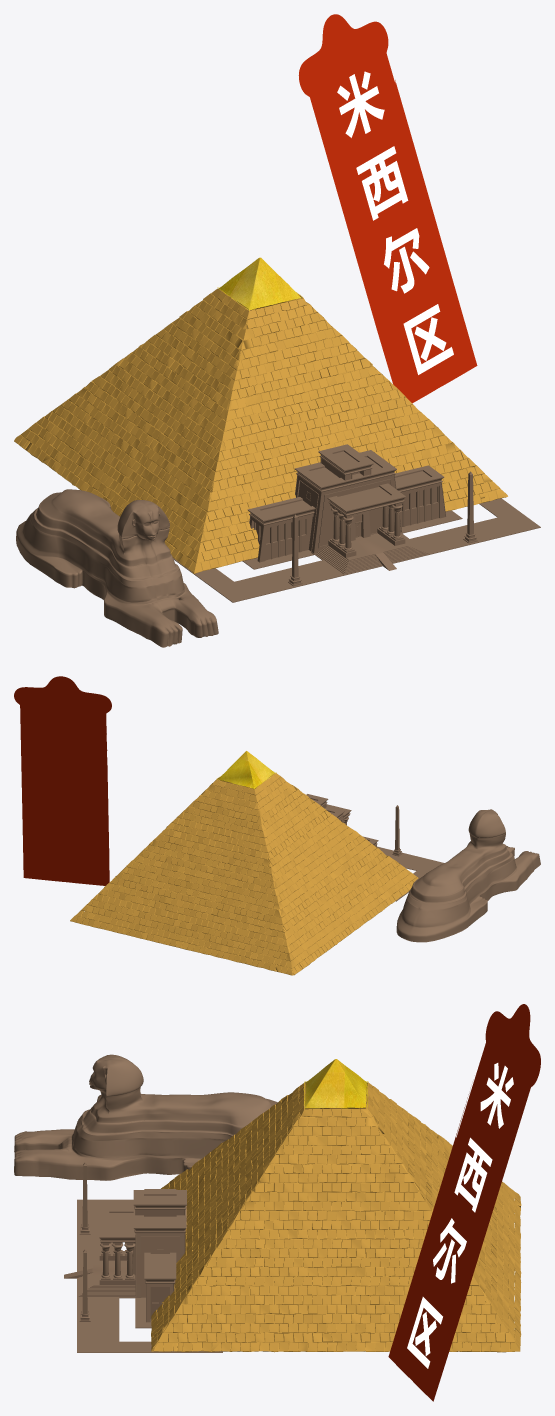
3 renders of one model, top to bottom at view 1: azimuth 30°, elevation 25°; view 2: azimuth 150°, elevation 25°; view 3: azimuth 270°, elevation 25°, orthographic. The views are drawn at different scales.
Visible parts, largest first — view 1: Pyramid_MD.003, Bldg_Temple_08, 贝塞尔曲线.015, Sphinx, 贝塞尔曲线.014, 文本.011, Pyramid_MD.002; view 2: Pyramid_MD.003, 贝塞尔曲线.014, Sphinx, 贝塞尔曲线.015, Bldg_Temple_08, Pyramid_MD.002; view 3: Pyramid_MD.003, Sphinx, 贝塞尔曲线.015, Bldg_Temple_08, 贝塞尔曲线.014, 文本.011, Pyramid_MD.002.
Boxes of the visible parts, <box> form: Pyramid_MD.003: <box>14,288,507,573</box>; Bldg_Temple_08: <box>173,444,540,602</box>; 贝塞尔曲线.015: <box>298,14,462,358</box>; Sphinx: <box>16,489,218,647</box>; 贝塞尔曲线.014: <box>299,15,477,403</box>; 文本.011: <box>337,71,453,374</box>; Pyramid_MD.002: <box>217,257,302,310</box>; Pyramid_MD.003: <box>70,773,418,975</box>; 贝塞尔曲线.014: <box>15,677,111,885</box>; Sphinx: <box>396,809,540,942</box>; 贝塞尔曲线.015: <box>14,676,111,852</box>; Bldg_Temple_08: <box>306,794,444,901</box>; Pyramid_MD.002: <box>217,751,276,788</box>; Pyramid_MD.003: <box>151,1082,521,1352</box>; Sphinx: <box>14,1054,277,1180</box>; 贝塞尔曲线.015: <box>404,1004,540,1349</box>; Bldg_Temple_08: <box>64,1162,222,1352</box>; 贝塞尔曲线.014: <box>388,1004,539,1401</box>; 文本.011: <box>407,1063,513,1368</box>; Pyramid_MD.002: <box>303,1059,368,1108</box>.
Size of the model in its own units: 5.87 by 3.65 by 4.93.
6 materials, 1 textured.
